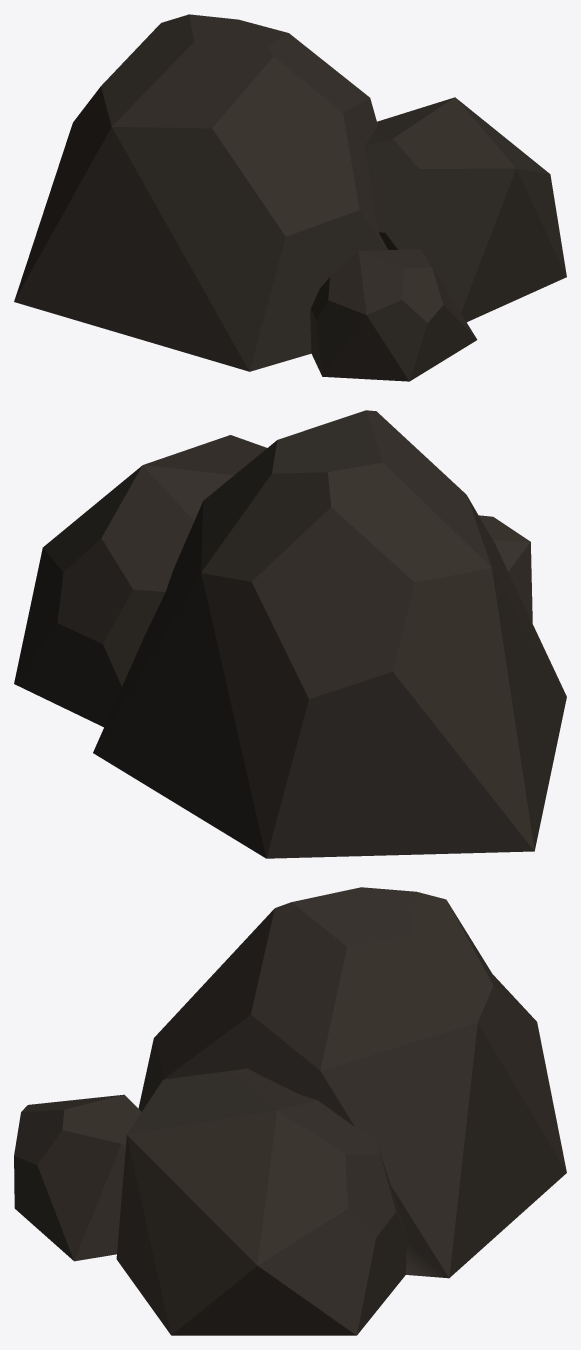
The model's file is MountainStone(1).fbx.
3 renders of one model, top to bottom at view 1: azimuth 30°, elevation 25°; view 2: azimuth 150°, elevation 25°; view 3: azimuth 270°, elevation 25°, orthographic. The views are drawn at different scales.
Visible parts, largest first — view 1: MountainStone(1; view 2: MountainStone(1; view 3: MountainStone(1.
Boxes of the visible parts, box(x1,y1,x2,y2) form: MountainStone(1: box(14, 14, 566, 381); MountainStone(1: box(14, 410, 566, 858); MountainStone(1: box(14, 887, 566, 1335).
Bounding box in the file's own units: 3.19 × 1.68 × 2.87.
